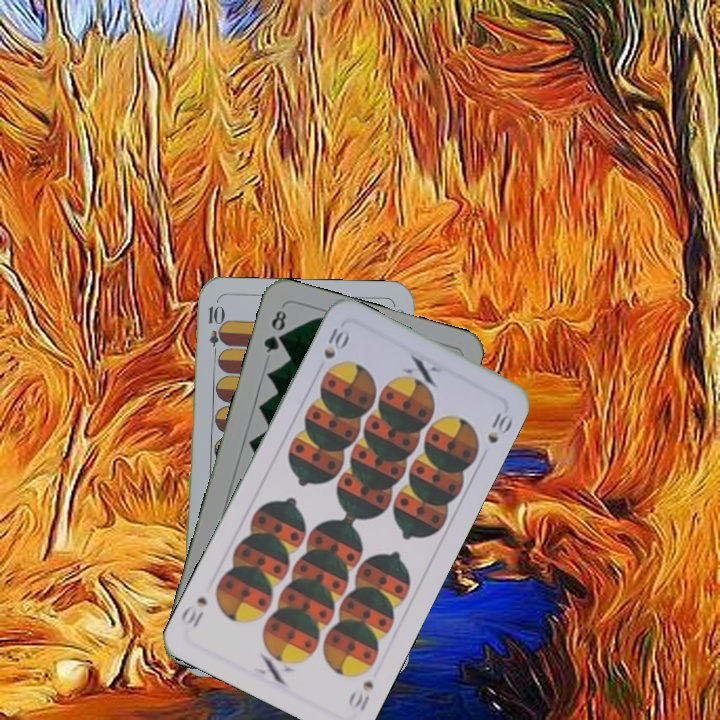E10: (204, 301, 223, 361)
G8: (259, 306, 289, 356)
S10: (319, 321, 352, 362), (344, 676, 376, 715)
